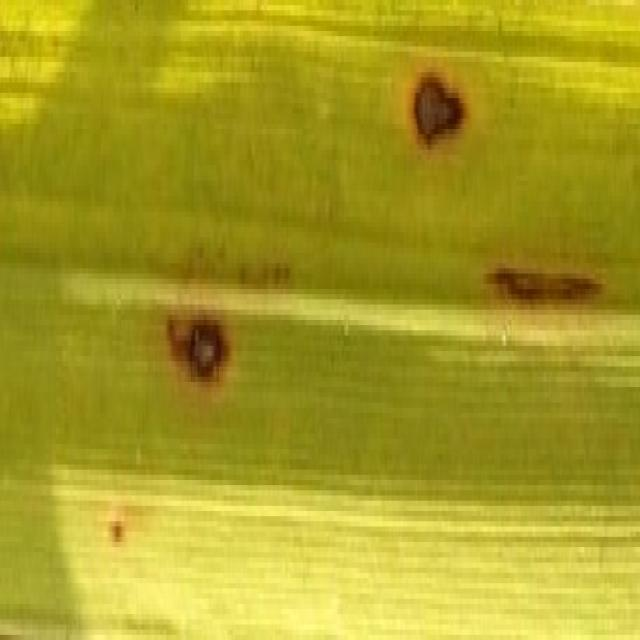Unhealthy: (158, 289, 238, 429), (481, 250, 620, 326), (402, 48, 476, 177), (105, 500, 130, 563)
